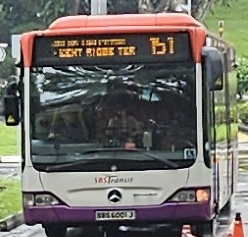bus: (140, 34, 180, 59)
